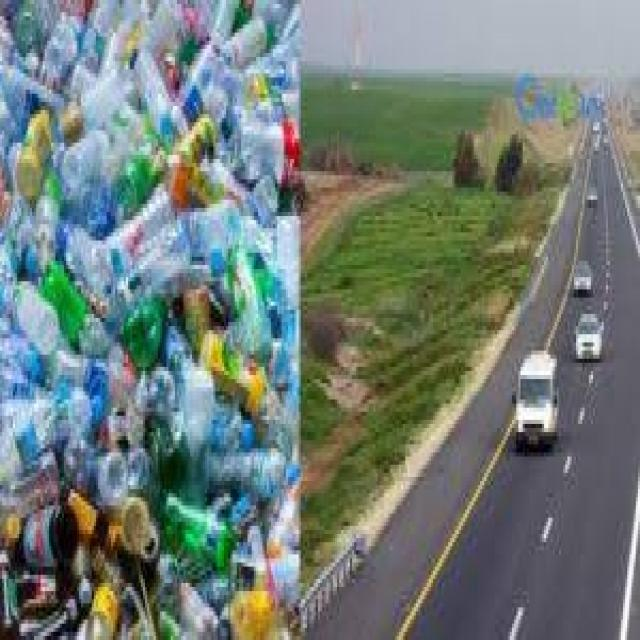heap: (5, 17, 298, 637)
